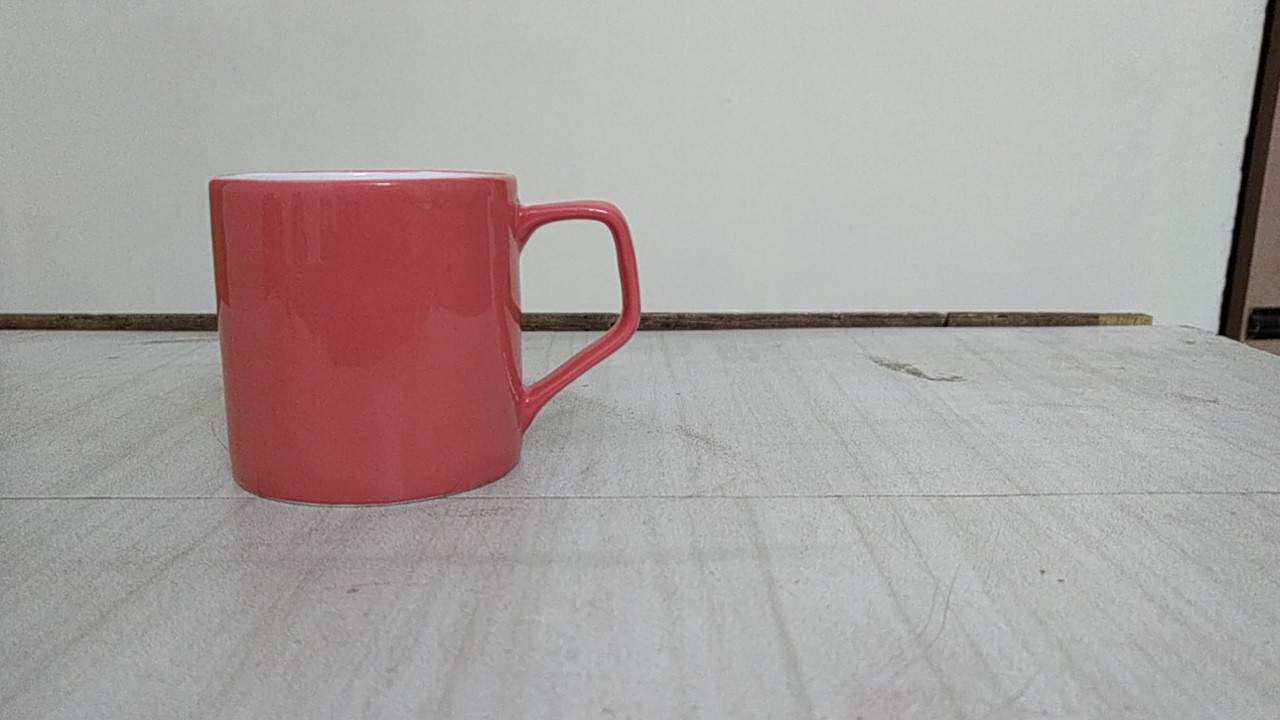cup: (188, 154, 656, 524)
